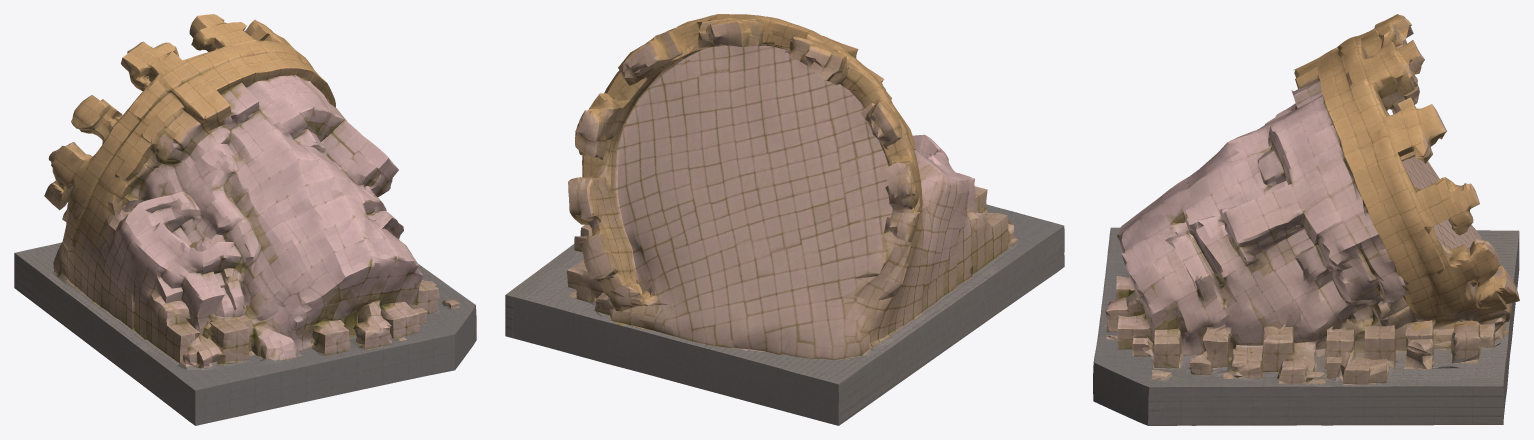
File: head.glb
3 views of the same model, side by side, from view 1: azimuth 30°, elevation 25°; view 2: azimuth 150°, elevation 25°; view 3: azimuth 270°, elevation 25° (orthographic). The views are drawn at different scales.
Size of the model in its own units: 1.73 by 1.48 by 1.9.
1 material, 1 textured.
